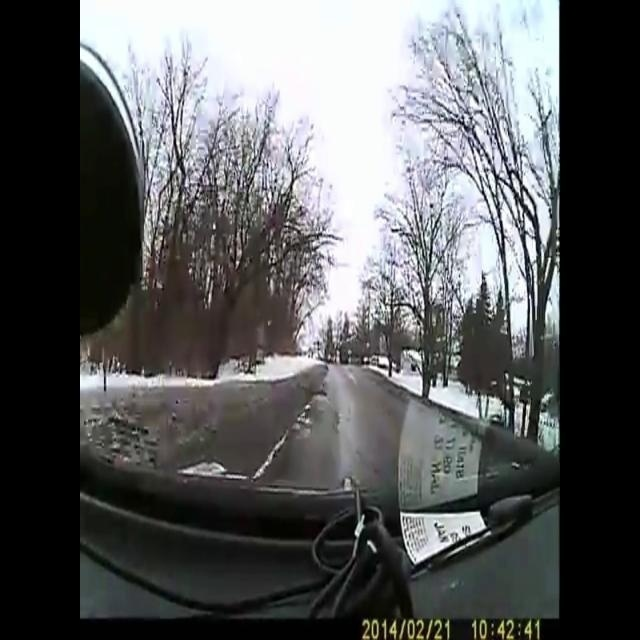pothole: (258, 402, 316, 482), (305, 379, 330, 413)
